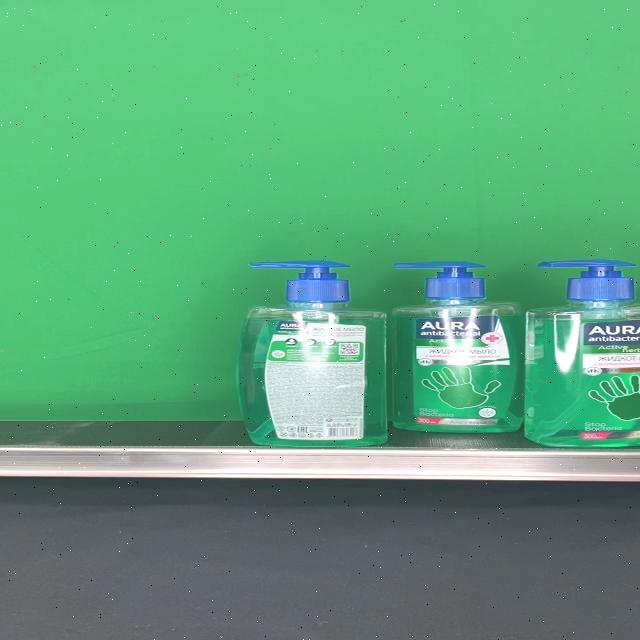Bottle: (237, 261, 387, 447), (391, 260, 526, 434), (526, 258, 640, 448)
Cap: (247, 260, 351, 304), (537, 258, 636, 300), (394, 260, 488, 300)
